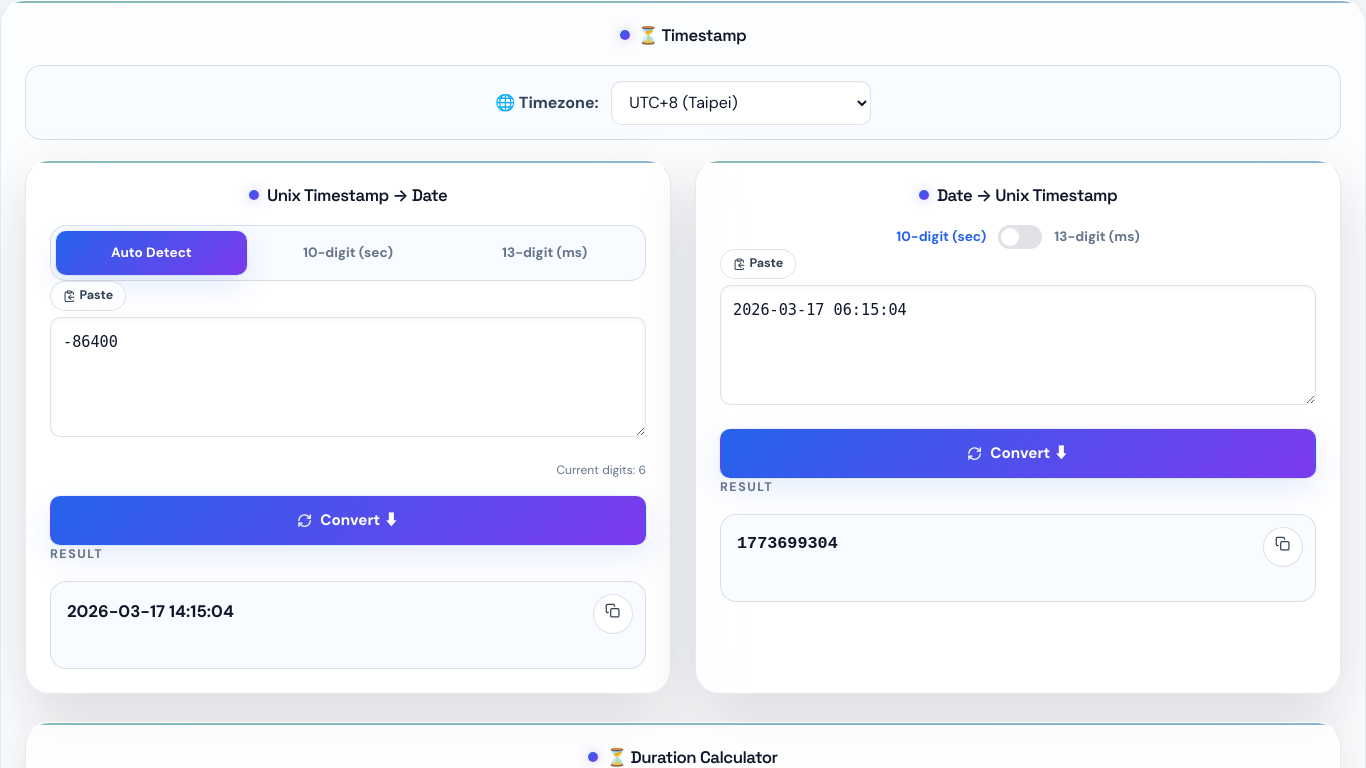
TimestampConverter.vue › 轉換功能 › 負數時間戳應能轉換 (1970年前)
Click the button "Convert ⬇" below "Current digits: 6" at (348, 520), box [50,496,646,545]
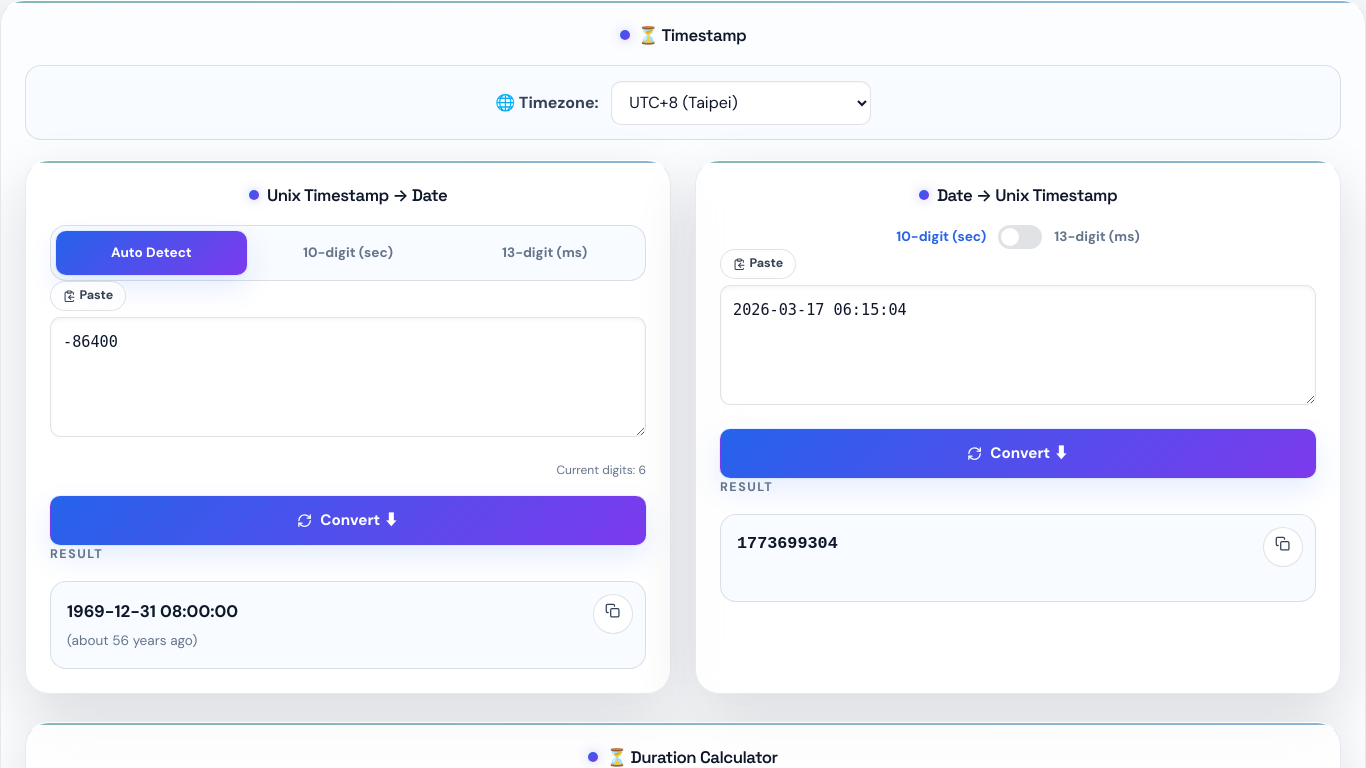
Expected: the text with class "result-text" shows "1969", [67,600,238,622]
